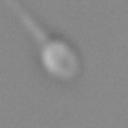normal: (4, 1, 43, 43)
